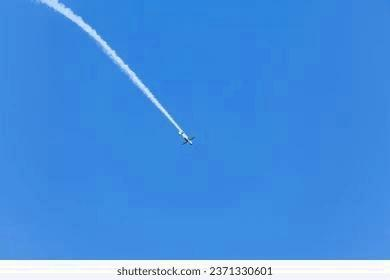Plane: (90, 31, 206, 148)
